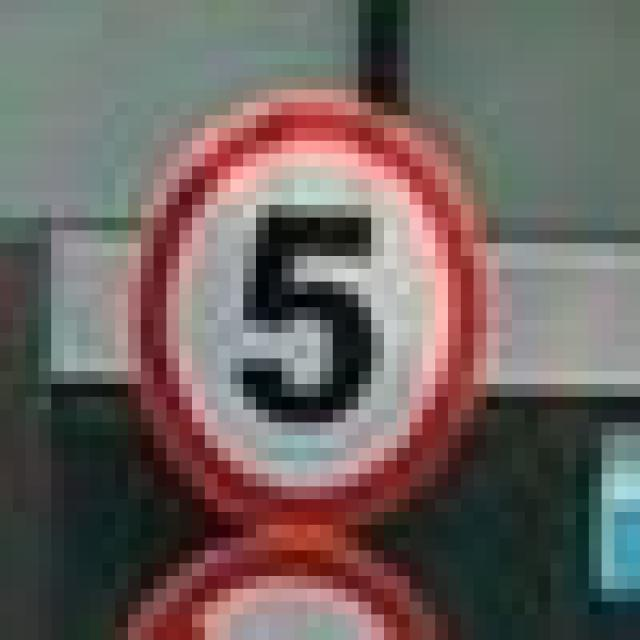speed_limit_20: (115, 64, 499, 525)
